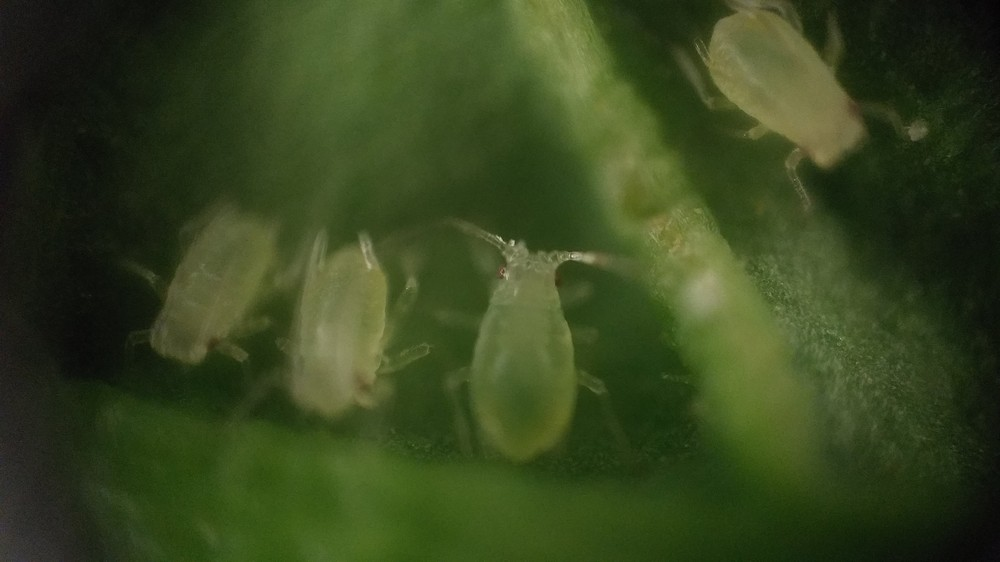Pulgon: (430, 202, 675, 493), (662, 10, 924, 222), (264, 211, 443, 460), (117, 189, 294, 393)
